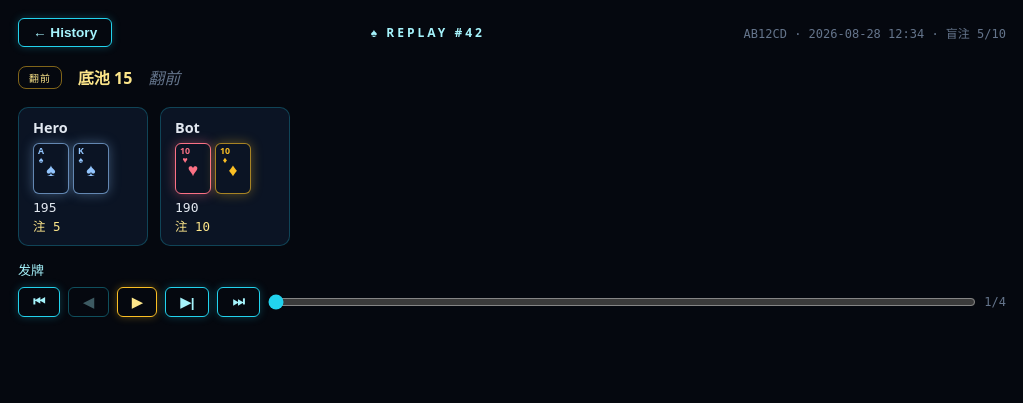
jump to final frame shows awards and dims the folded seat
Expected: the text "发牌" is shown, top-left (18, 263), bottom-right (44, 278)
Click the button "⏭".
click(238, 302)  # box top-left (217, 287), bottom-right (260, 317)
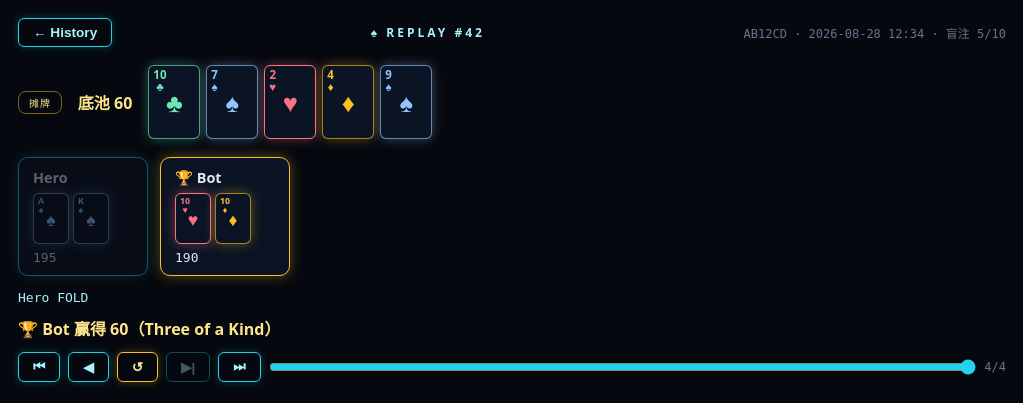
Expected: the text "4/4" is shown, top-left (984, 360), bottom-right (1006, 374)
Expected: the text "🏆 Bot 赢得 60（Three of a Kind）" is shown, top-left (18, 316), bottom-right (280, 340)
Expected: the button "↺" is shown, top-left (117, 352), bottom-right (158, 382)
